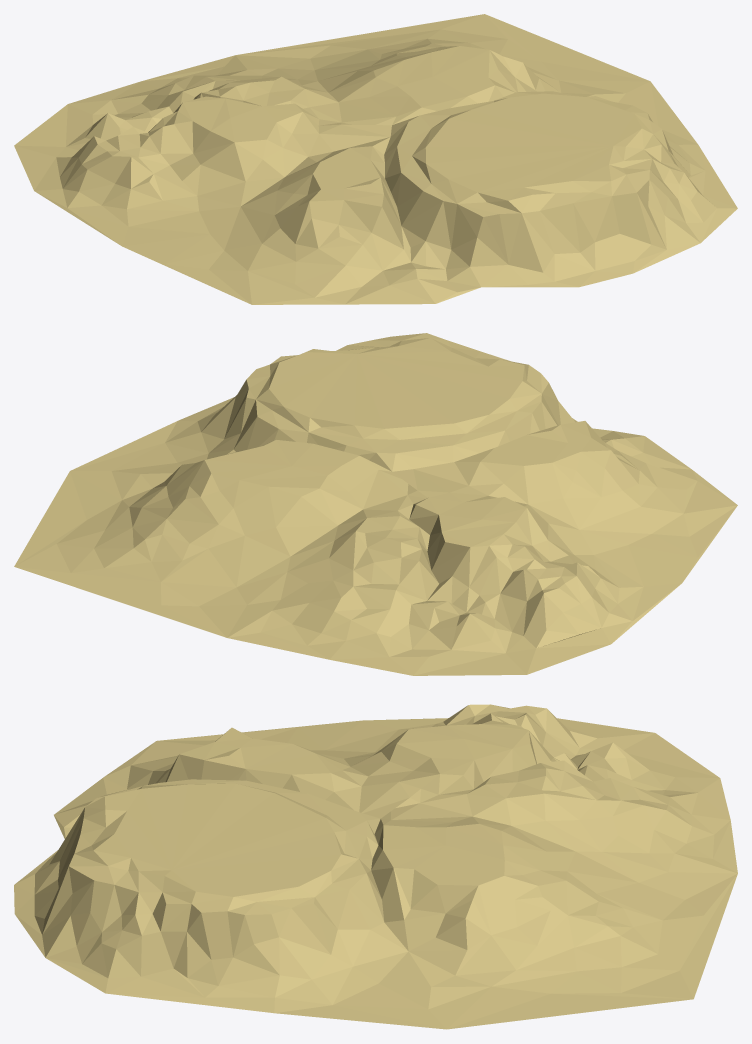
File: TerrainSand_7.fbx
3 renders of one model, top to bottom at view 1: azimuth 30°, elevation 25°; view 2: azimuth 150°, elevation 25°; view 3: azimuth 270°, elevation 25°, orthographic. The views are drawn at different scales.
Visible parts, largest first — view 1: TerrainSand_7; view 2: TerrainSand_7; view 3: TerrainSand_7.
Boxes of the visible parts, <box> form: TerrainSand_7: <box>14,14,737,304</box>; TerrainSand_7: <box>14,333,737,675</box>; TerrainSand_7: <box>14,704,737,1029</box>.
Size of the model in its own units: 1620 by 173 by 1579.
